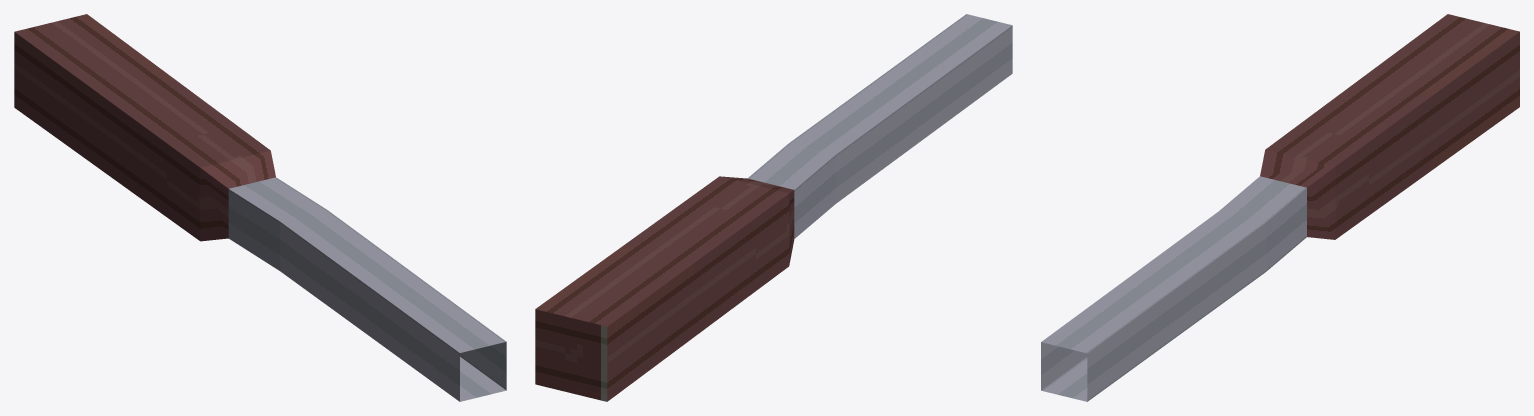
Rendered from 037_tolppaWired_003.gltf.
3 renders of one model, left to right at view 1: azimuth 30°, elevation 25°; view 2: azimuth 150°, elevation 25°; view 3: azimuth 330°, elevation 25°, orthographic.
Parts seen in each view (by area): view 1: tolppaWired_003; view 2: tolppaWired_003; view 3: tolppaWired_003.
Part boxes in pixels (<box>): tolppaWired_003: <box>14,14,506,401</box>; tolppaWired_003: <box>535,14,1012,401</box>; tolppaWired_003: <box>1041,14,1519,401</box>.
Size of the model in its own units: 0.7889 by 0.7889 by 8.04.
1 material, 1 textured.
